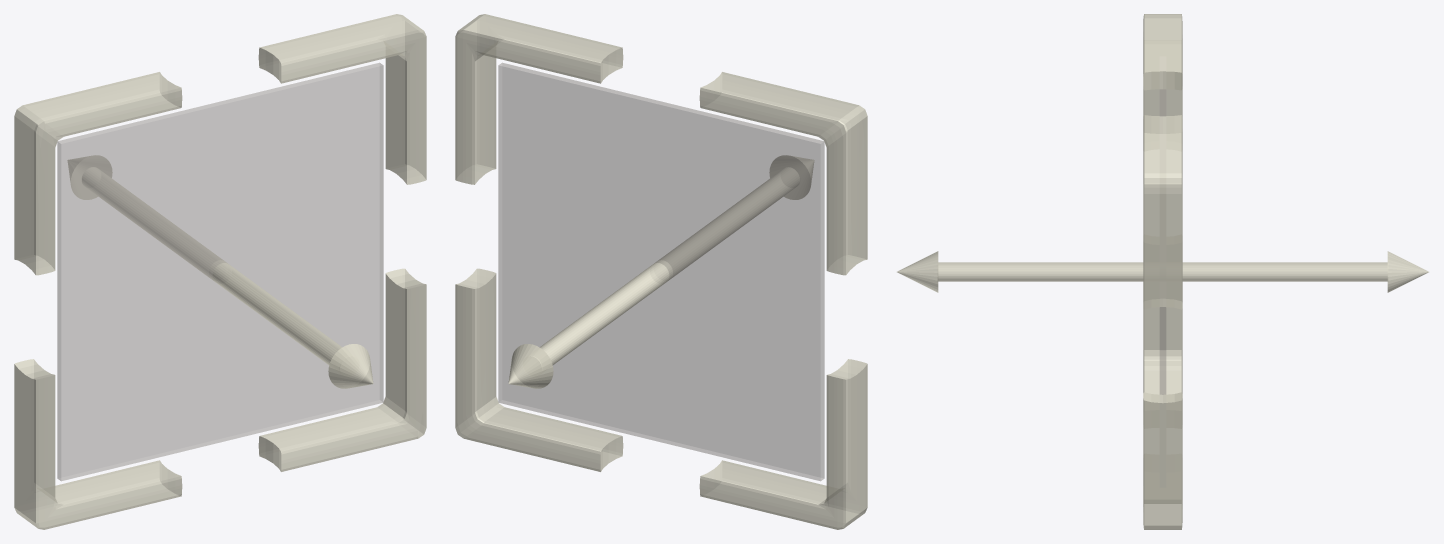
File: mirrorUserTrans.gltf
3 views of the same model, side by side, from view 1: azimuth 30°, elevation 25°; view 2: azimuth 150°, elevation 25°; view 3: azimuth 270°, elevation 25° (orthographic). The views are drawn at different scales.
Parts seen in each view (by area): view 1: Cube.038, Cube.037, Cone.001; view 2: Cube.038, Cube.037, Cone.001; view 3: Cube.037, Cone.001, Cube.038.
Boxes of the visible parts, bbox=[...] form: Cube.038: bbox=[57, 62, 383, 481]; Cube.037: bbox=[14, 14, 426, 529]; Cone.001: bbox=[67, 155, 373, 388]; Cube.038: bbox=[498, 62, 824, 481]; Cube.037: bbox=[455, 14, 867, 529]; Cone.001: bbox=[508, 155, 814, 388]; Cube.037: bbox=[1143, 14, 1182, 529]; Cone.001: bbox=[897, 251, 1428, 292]; Cube.038: bbox=[1159, 89, 1166, 394].
Size of the model in its own units: 2 by 2 by 2.71.
